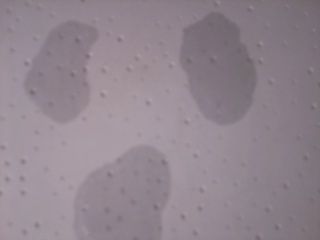Water_detected: (70, 154, 158, 239), (183, 33, 239, 106), (38, 49, 83, 107)
